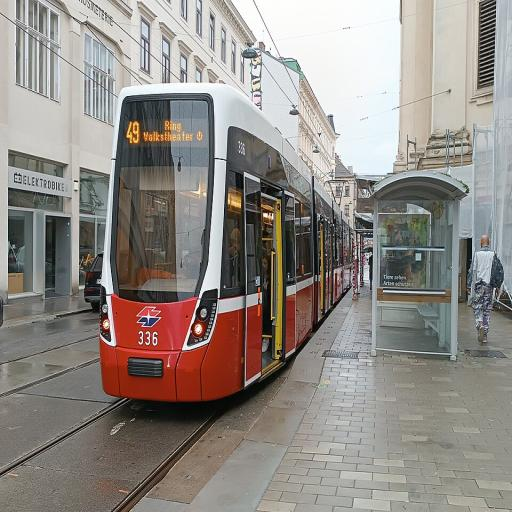Flexity: (98, 74, 360, 406)
